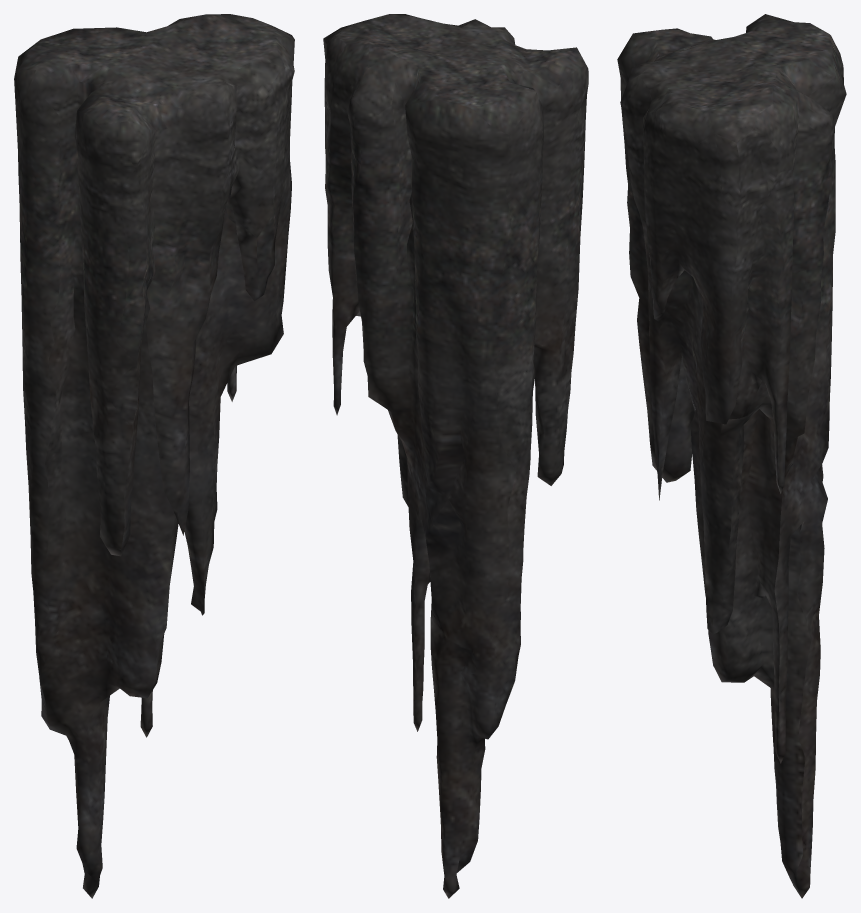
File: CaveRockPack1_High3.fbx
3 views of the same model, side by side, from view 1: azimuth 30°, elevation 25°; view 2: azimuth 150°, elevation 25°; view 3: azimuth 270°, elevation 25° (orthographic). The views are drawn at different scales.
Visible parts, largest first — view 1: CaveRockPack1_High3; view 2: CaveRockPack1_High3; view 3: CaveRockPack1_High3.
Boxes of the visible parts, <box> form: CaveRockPack1_High3: <box>14,14,294,898</box>; CaveRockPack1_High3: <box>323,14,588,898</box>; CaveRockPack1_High3: <box>617,14,846,898</box>.
Bounding box in the file's own units: 1394 × 4635 × 1121.
